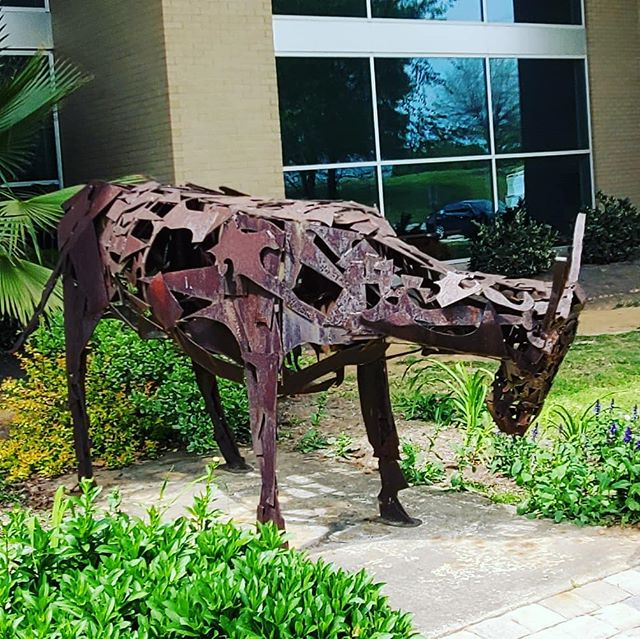building: (58, 1, 640, 201)
statue: (54, 170, 569, 555)
